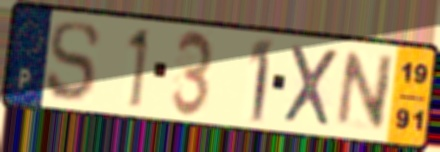1: (247, 37, 276, 126), (124, 28, 152, 111)
3: (169, 27, 217, 120)
N: (332, 50, 398, 133)
S: (44, 19, 103, 104)
X: (280, 41, 342, 130)
